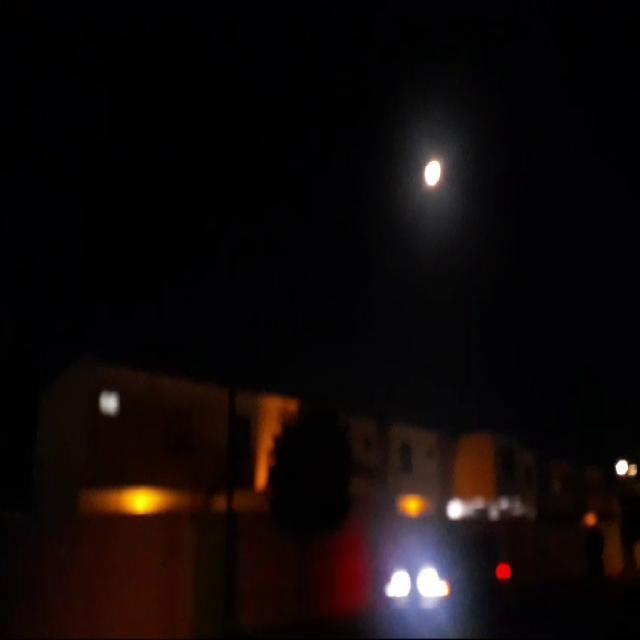moon: (424, 161, 444, 195)
